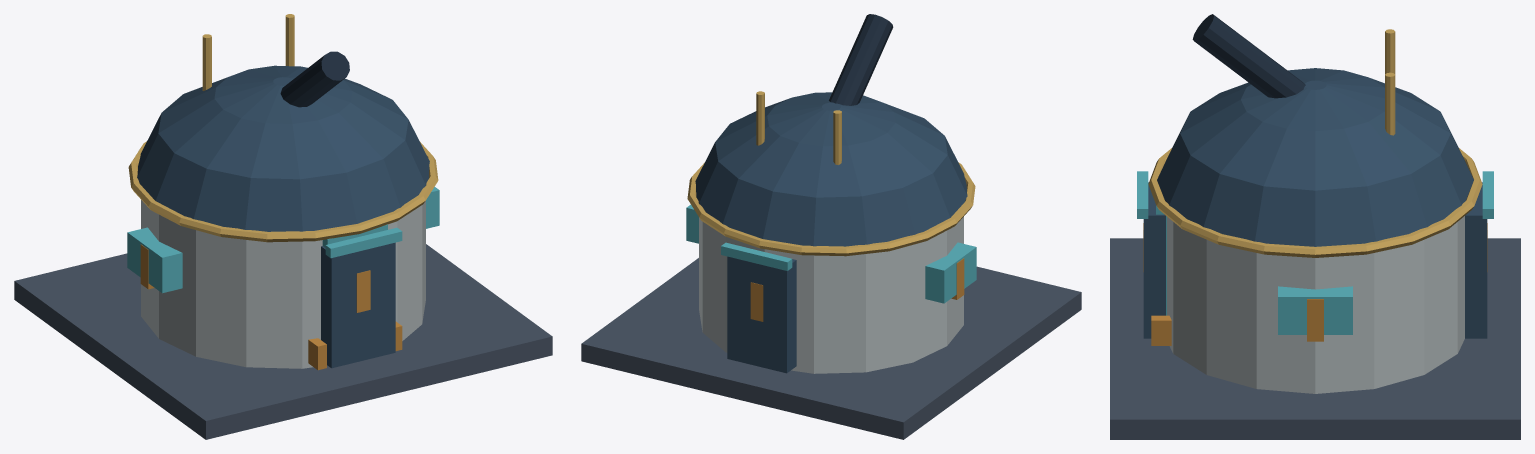
The model's file is SpaceStation_Observatory_Showcase.glb.
3 views of the same model, side by side, from view 1: azimuth 30°, elevation 25°; view 2: azimuth 150°, elevation 25°; view 3: azimuth 270°, elevation 25° (orthographic). The views are drawn at different scales.
Visible parts, largest first — view 1: SpaceStation_Observatory_Showcase; view 2: SpaceStation_Observatory_Showcase; view 3: SpaceStation_Observatory_Showcase.
Boxes of the visible parts, x1,y1,x2,y2 form: SpaceStation_Observatory_Showcase: [14, 14, 552, 439]; SpaceStation_Observatory_Showcase: [581, 14, 1081, 439]; SpaceStation_Observatory_Showcase: [1110, 14, 1520, 439].
Bounding box in the file's own units: 4.6 × 3.94 × 4.4.
